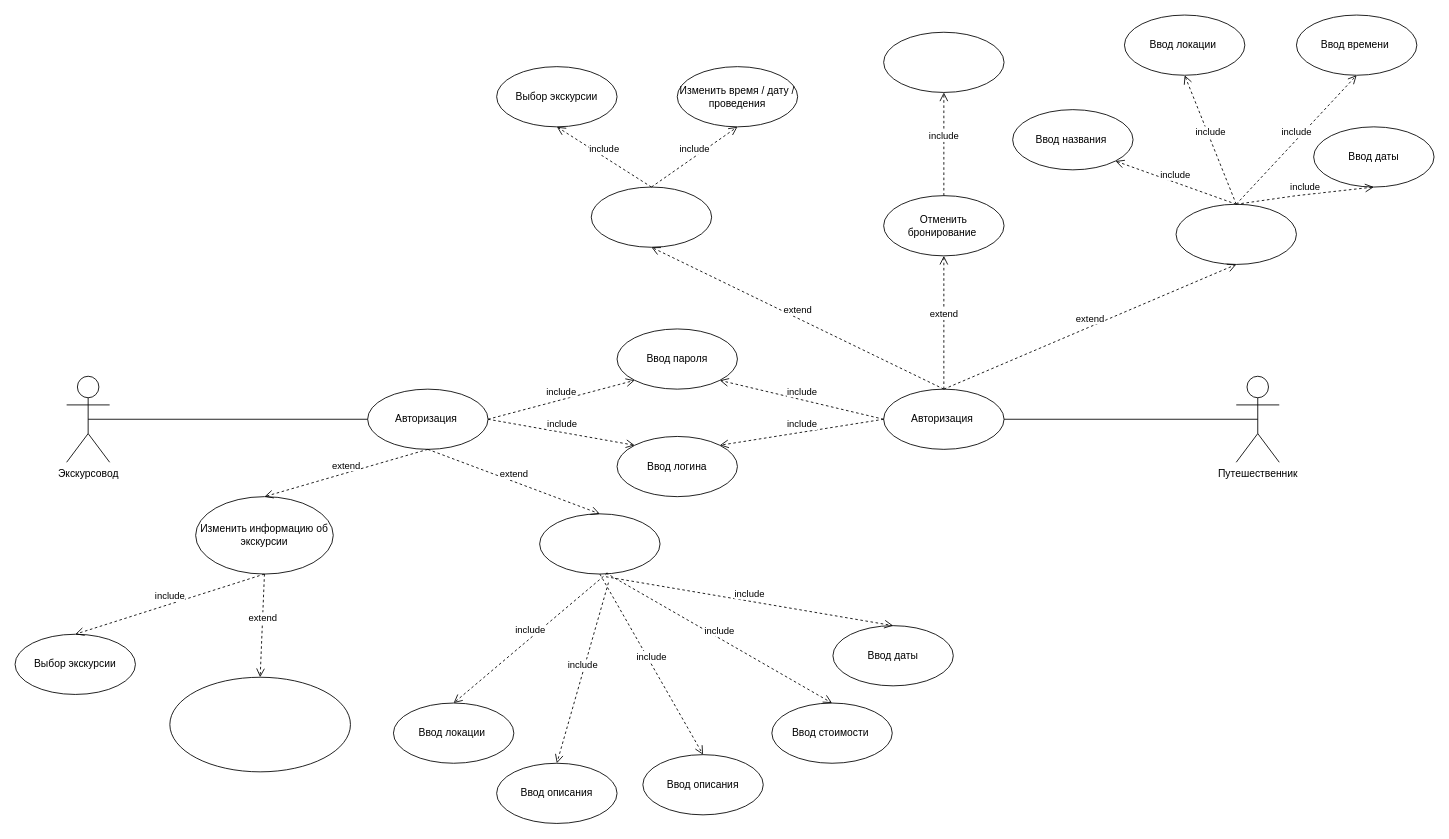
The diagram is 1449 pixels wide and 839 high, and some of its shapes have lost their labels. Each missing label, with the centre of its shape:
"Выбор забронированной экскурсии" belongs at (x=943, y=61).
"Добавить экскурсию" belongs at (x=599, y=543).
"Изменить бронирование" belongs at (x=651, y=216).
"Изменить время / дату / локацию проведения экскурсии" belongs at (x=259, y=724).
"Создать бронь на экскурсию" belongs at (x=1235, y=233).
